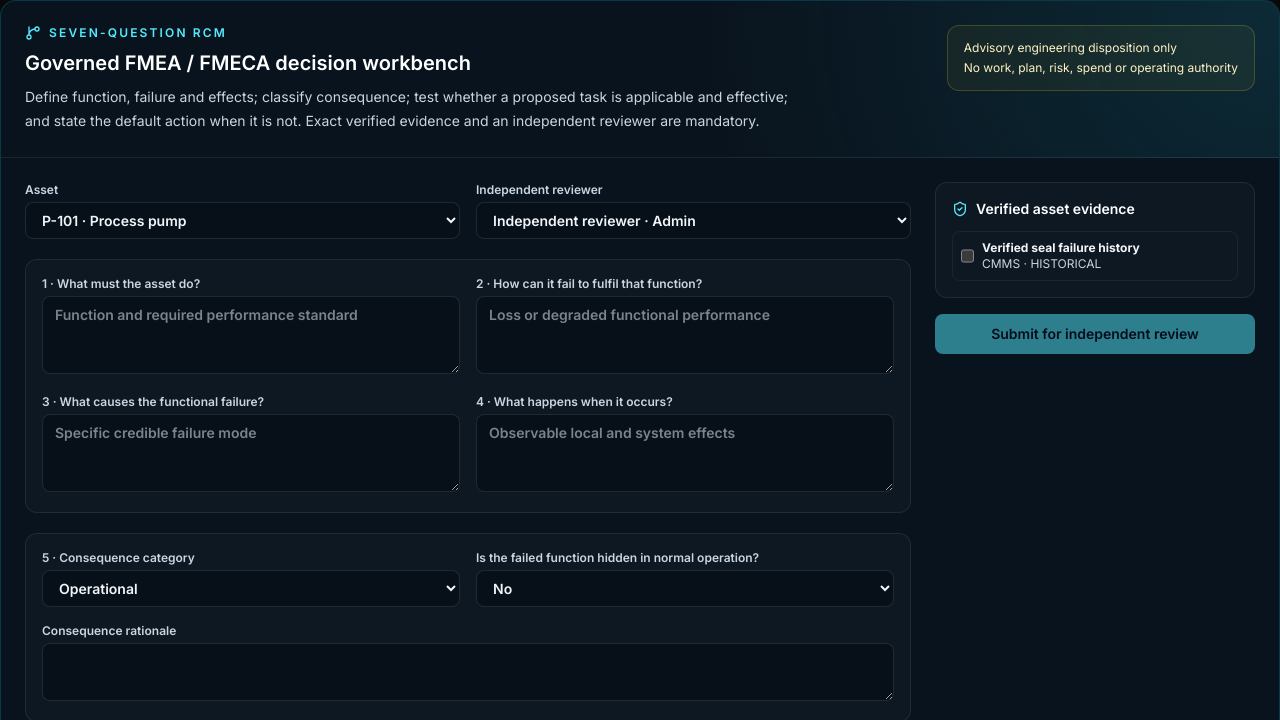
Test case: GovernedRcmWorkbench › requires verified asset evidence before submission
Check: the button "Submit for independent review" is disabled, box [935,314,1255,354]
Click the text "Verified seal failure history" at (1061, 248), box [982,240,1140,255]
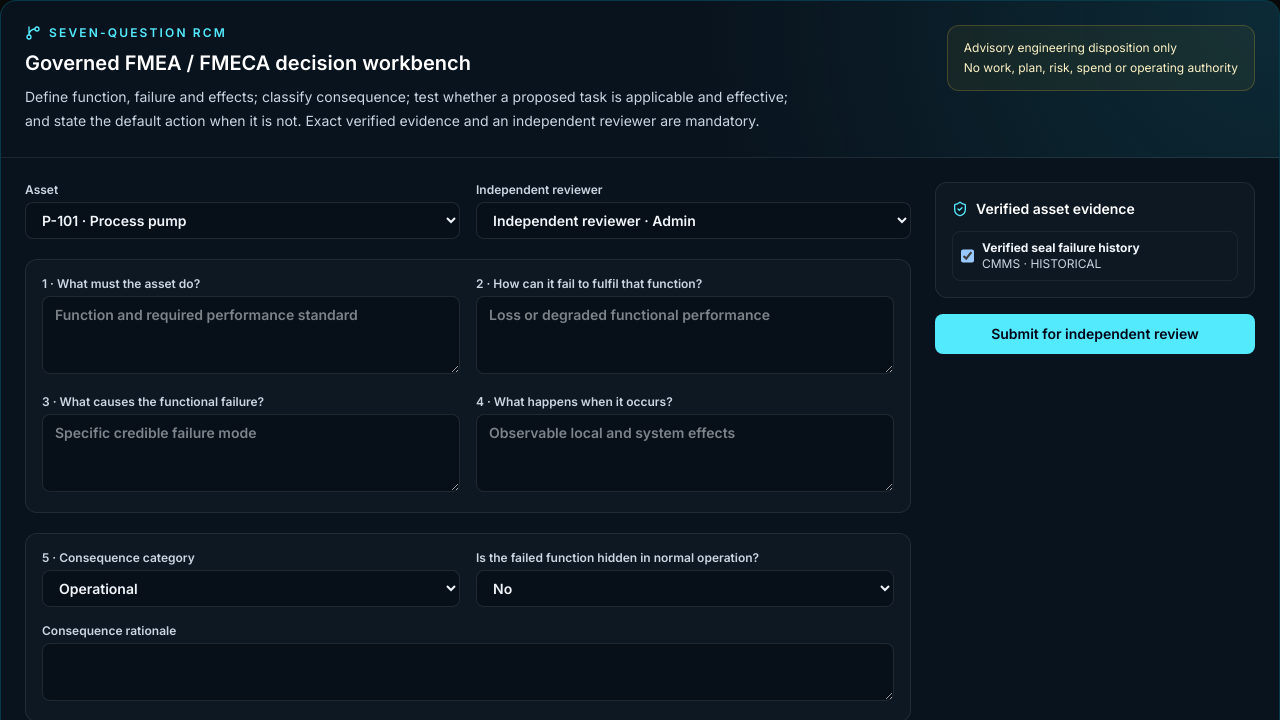
Check: the button "Submit for independent review" is enabled, box [935,314,1255,354]
